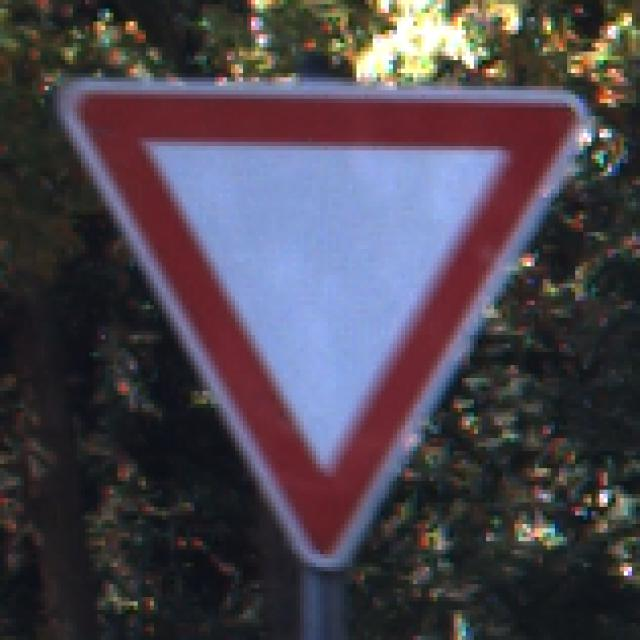Give Way: (54, 57, 588, 589)
